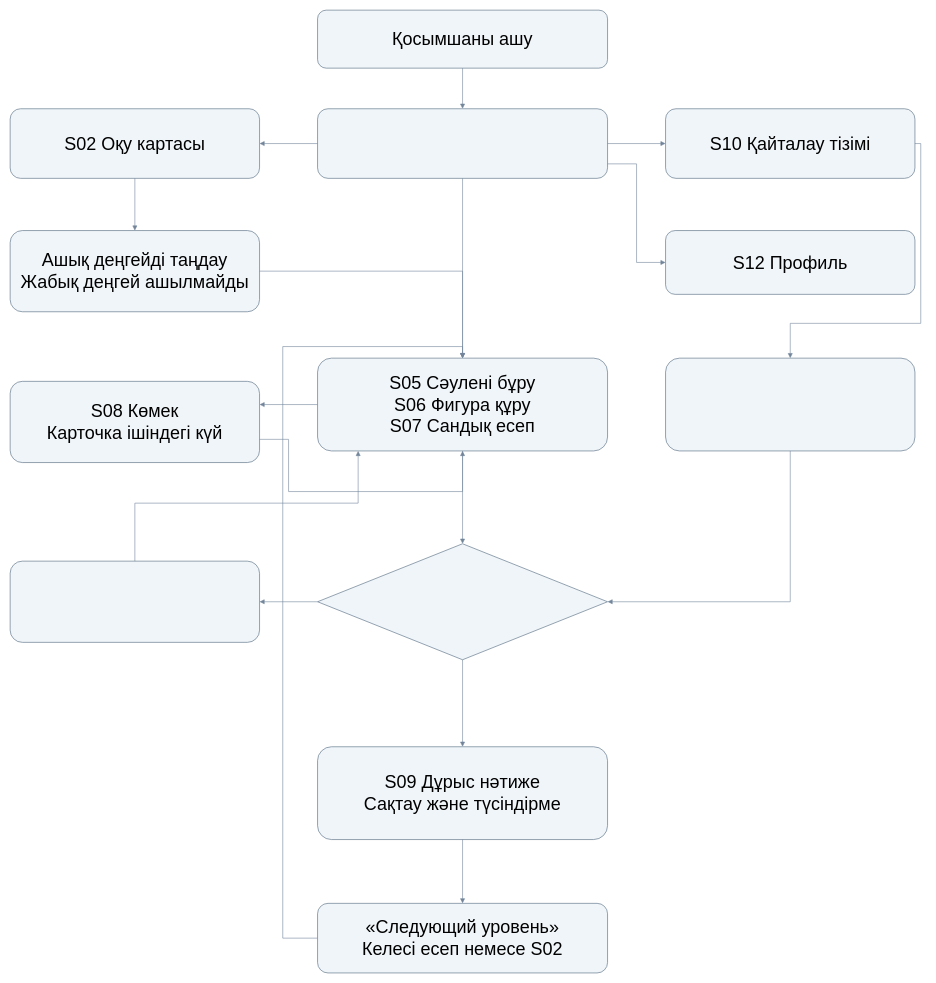
This 936x983 diagram has some shape labels left out. The shapes that lost their labels are listed below. From the top down, each one's box as (x1, y1, x2, y2) in pixels, then its label:
(317, 108, 608, 178): S01 Ойын Соңғы ашық деңгей
(665, 358, 915, 451): S11 Қайталау тапсырмасы «Все задачи» → S10
(10, 561, 260, 642): Қате немесе жарамсыз дерек Түсіндірме және қайта енгізу
(317, 543, 608, 660): «Проверить» Жауап дұрыс па?
